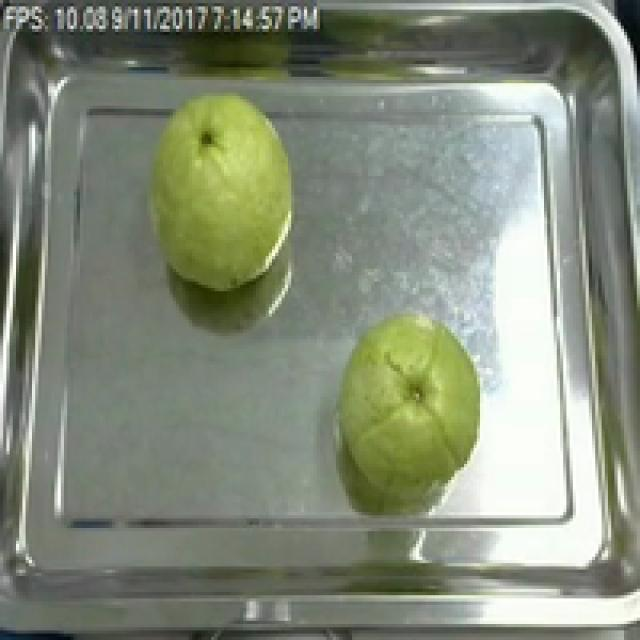Fruit: (138, 80, 304, 301), (330, 300, 492, 506)
